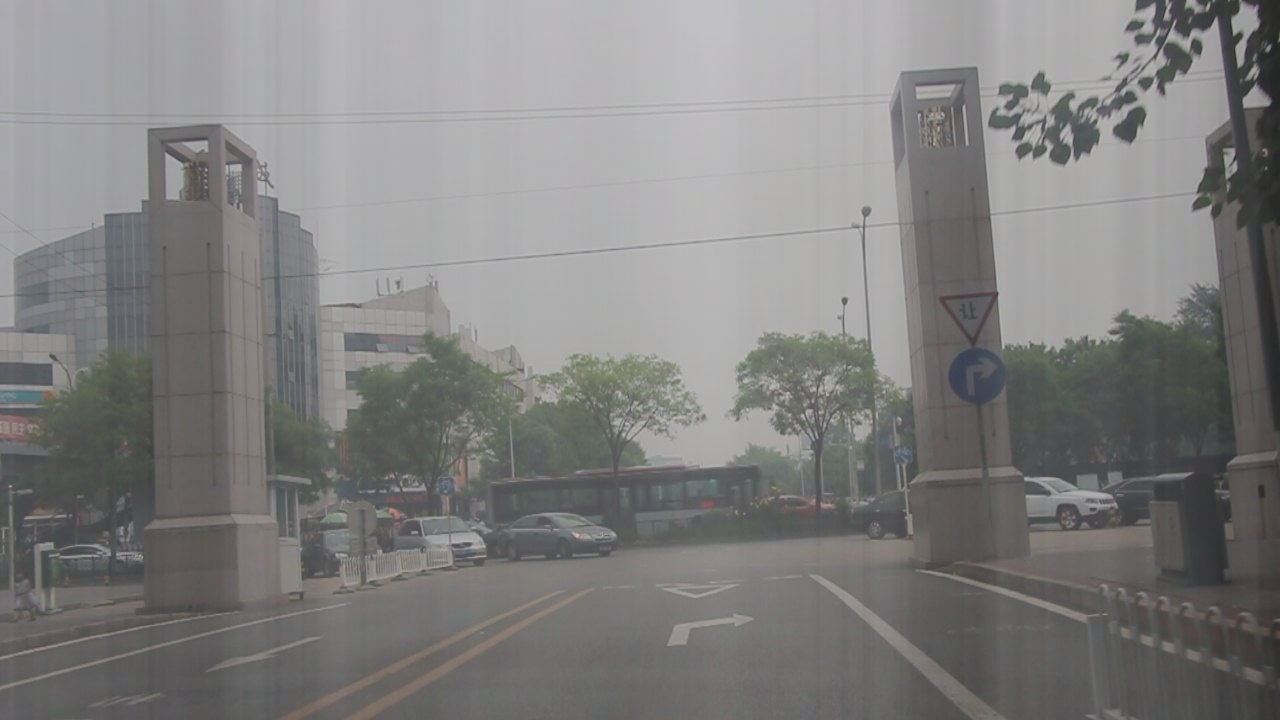Informative Signs: (944, 347, 1013, 407)
Prohibitory Signs: (935, 291, 1001, 348)
